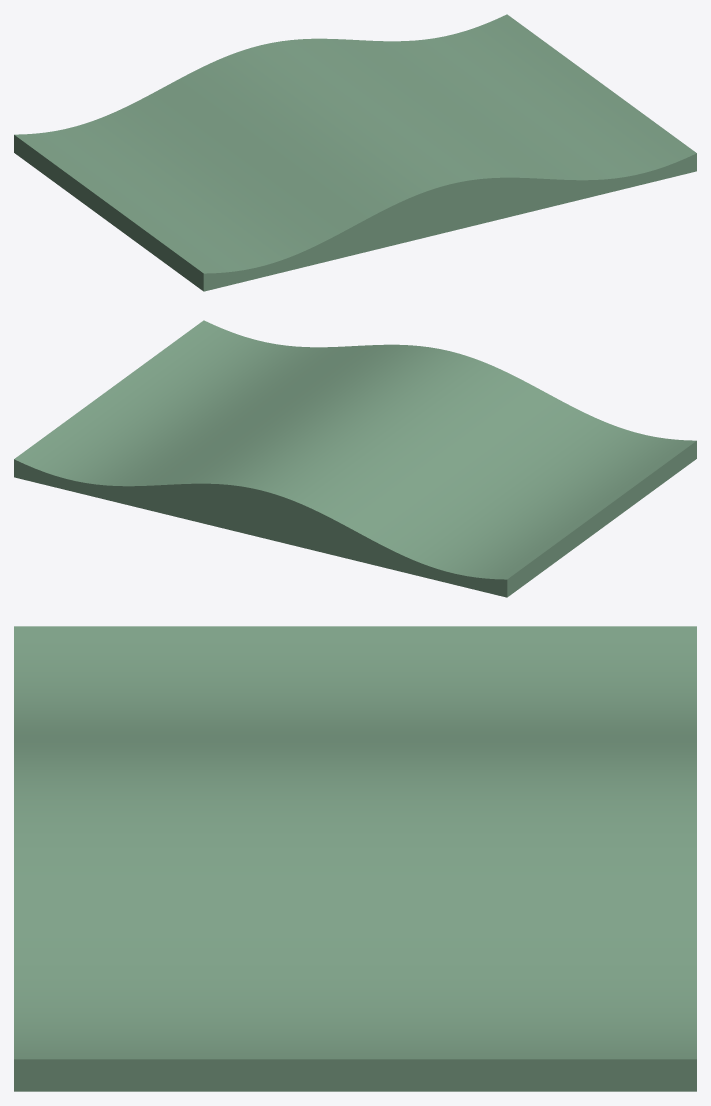
Rendered from sheet-gauge.glb.
The picture shows the model from 3 angles, top to bottom: view 1: azimuth 30°, elevation 25°; view 2: azimuth 150°, elevation 25°; view 3: azimuth 270°, elevation 25°; orthographic projection. The views are drawn at different scales.
Visible parts, largest first — view 1: Panel.002, Panel; view 2: Panel.002, Panel; view 3: Panel.002, Panel.
Part boxes in pixels (<box>): Panel.002: <box>14,14,696,290</box>; Panel: <box>14,142,696,291</box>; Panel.002: <box>14,320,696,597</box>; Panel: <box>14,448,696,597</box>; Panel.002: <box>14,626,696,1091</box>; Panel: <box>14,1073,696,1091</box>.
Bounding box in the file's own units: 6 × 0.55 × 4.
